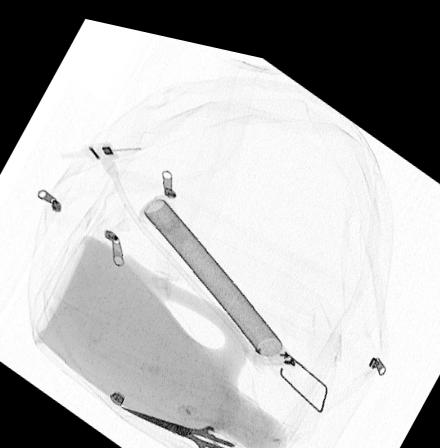Scissors: (117, 399, 263, 448)
